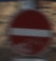No entry: (5, 5, 50, 55)
